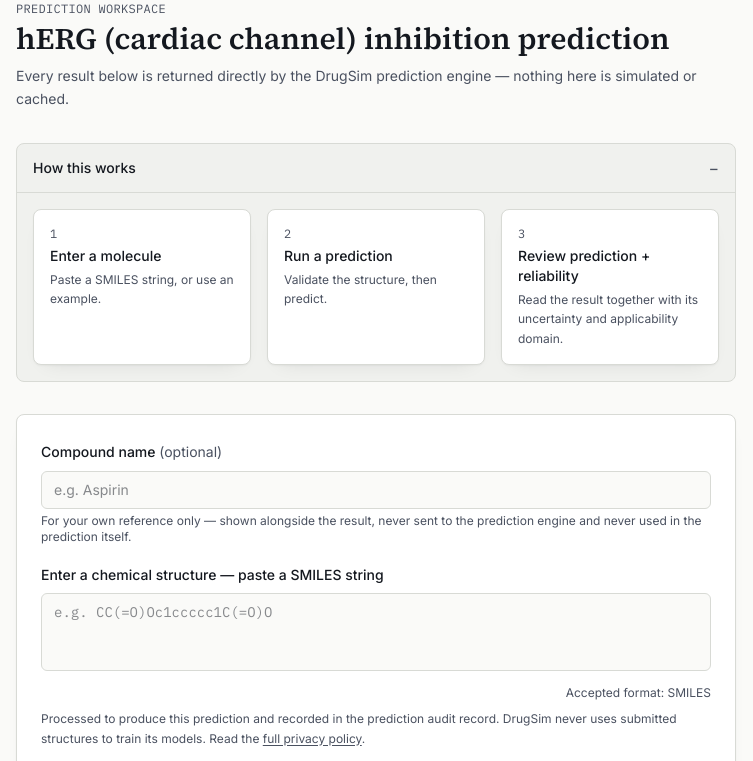
Test: PredictPage › shows an honest error state when the API is unreachable
Type "CC(=O)Oc1ccccc1C(=O)O" into the text box labelled "Enter a chemical structure — paste a SMILES string".
click(376, 632); type("CC(=O)Oc1ccccc1C(=O)O")  # box left=41, top=593, right=711, bottom=671
(page scrolled)
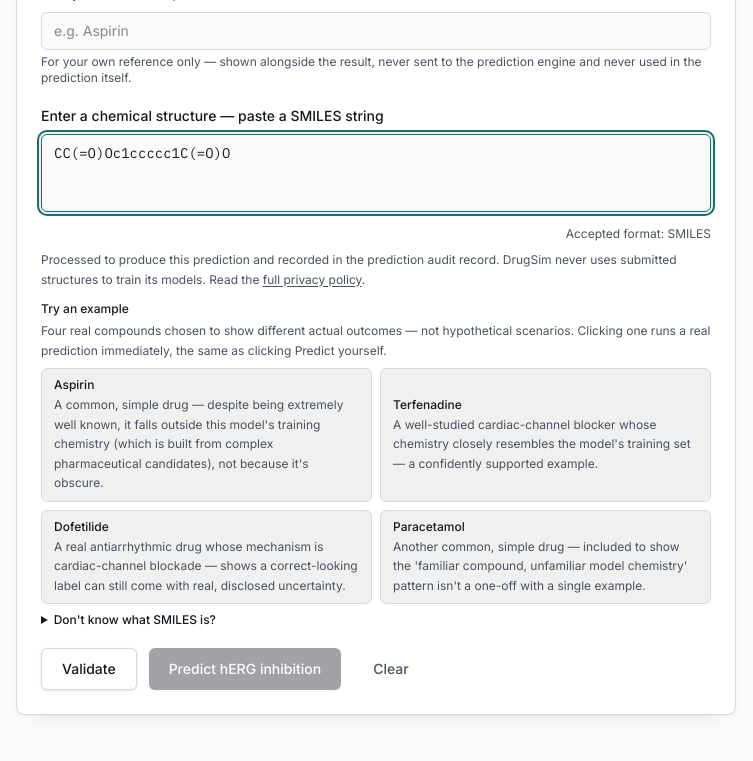
Click the button "Validate".
click(89, 669)  # box left=41, top=648, right=137, bottom=690
(page scrolled)
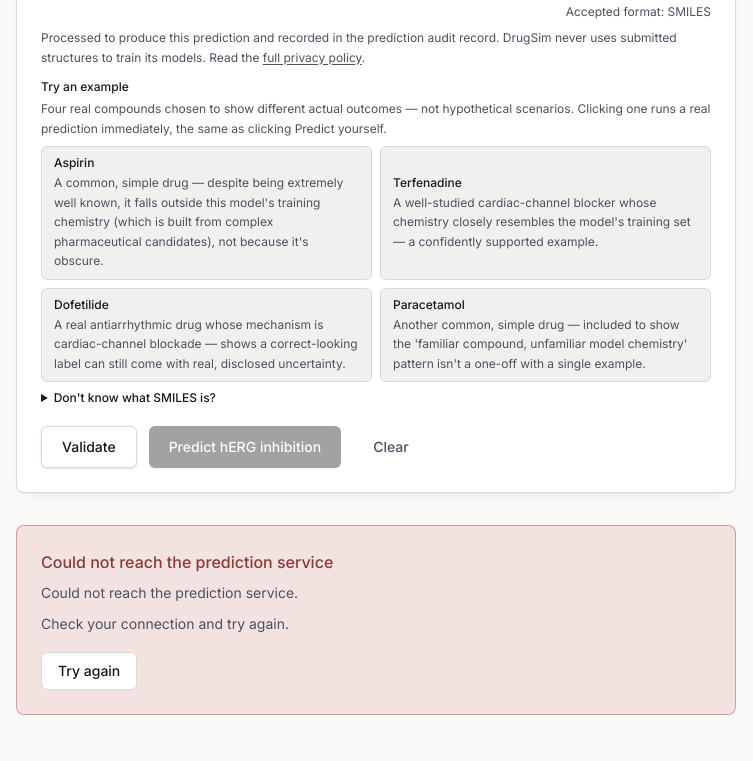
Expected: the message shows "Could not reach the prediction service", left=41, top=552, right=333, bottom=572
